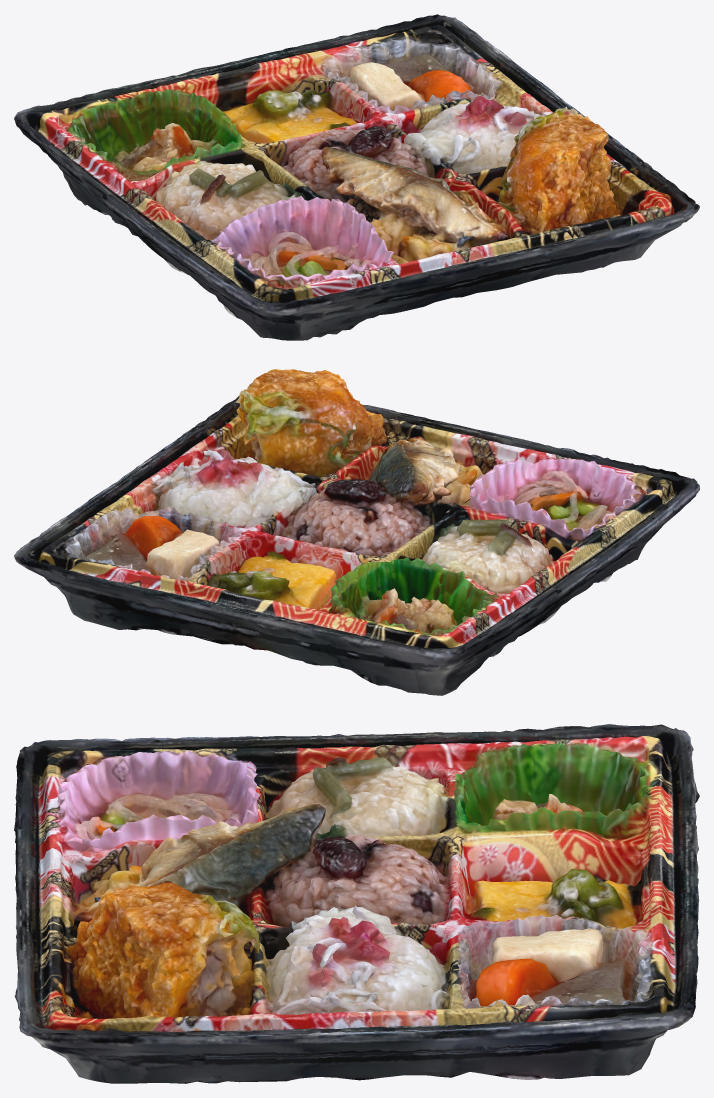
Rendered from japanese_bento.glb.
3 views of the same model, one above another, from view 1: azimuth 30°, elevation 25°; view 2: azimuth 150°, elevation 25°; view 3: azimuth 270°, elevation 25° (orthographic). The views are drawn at different scales.
Visible parts, largest first — view 1: Object_4; view 2: Object_4; view 3: Object_4.
Boxes of the visible parts, <box> form: Object_4: <box>14,14,699,340</box>; Object_4: <box>14,369,699,695</box>; Object_4: <box>14,724,699,1083</box>.
Size of the model in its own units: 0.2064 by 0.0504 by 0.2034.
1 material, 1 textured.
